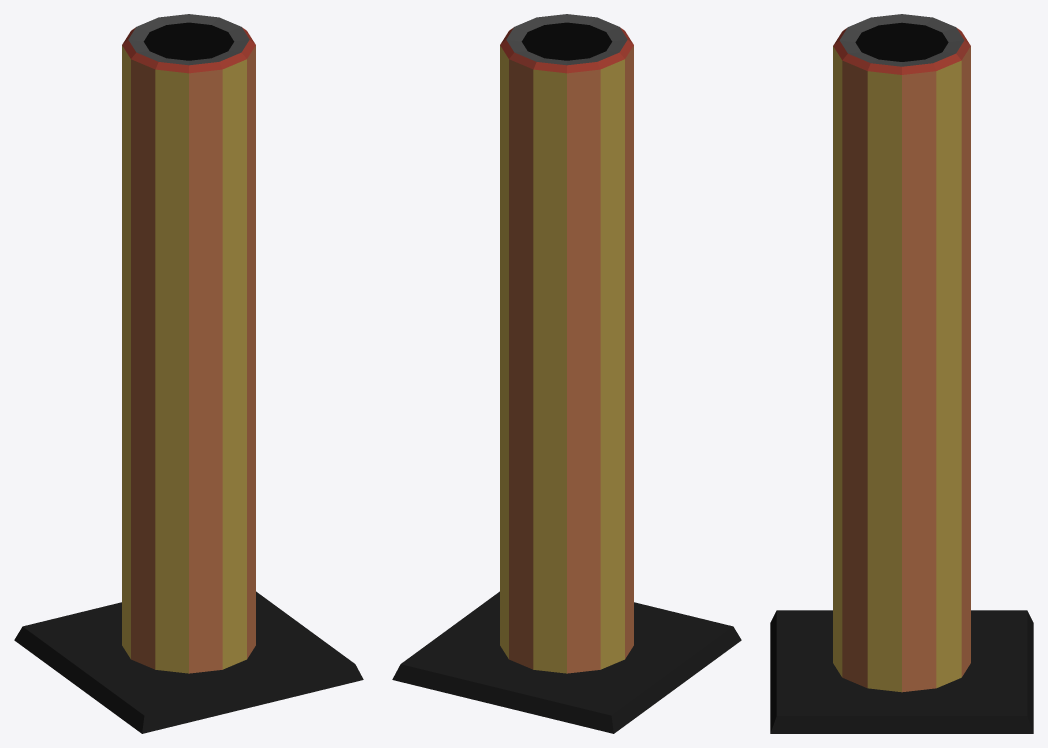
Rendered from CLASSICTube.fbx.
3 views of the same model, side by side, from view 1: azimuth 30°, elevation 25°; view 2: azimuth 150°, elevation 25°; view 3: azimuth 270°, elevation 25° (orthographic). The views are drawn at different scales.
Visible parts, largest first — view 1: PreloadedTube_DummyPreloadedTube; view 2: PreloadedTube_DummyPreloadedTube; view 3: PreloadedTube_DummyPreloadedTube.
Part boxes in pixels (x1,y1,x2,y2): PreloadedTube_DummyPreloadedTube: (14,14,363,733); PreloadedTube_DummyPreloadedTube: (392,14,741,733); PreloadedTube_DummyPreloadedTube: (770,14,1033,733).
Size of the model in its own units: 19.1 by 51.07 by 19.1.
